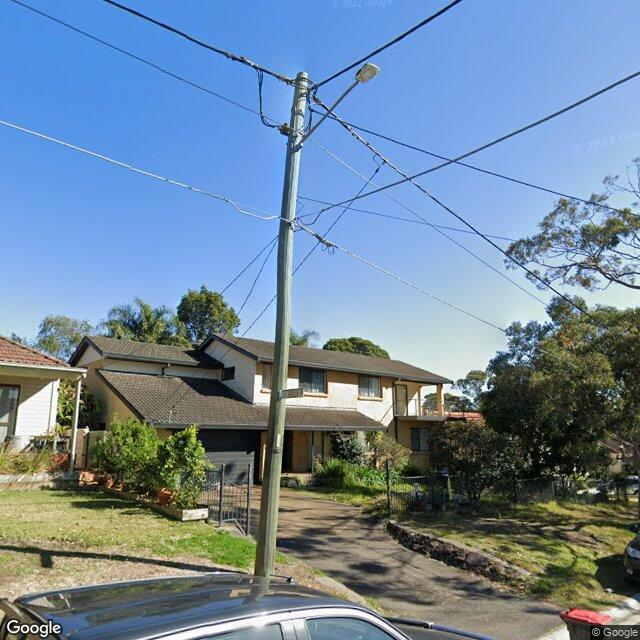streetlight: (294, 61, 381, 151)
timber-pole: (253, 71, 310, 580)
